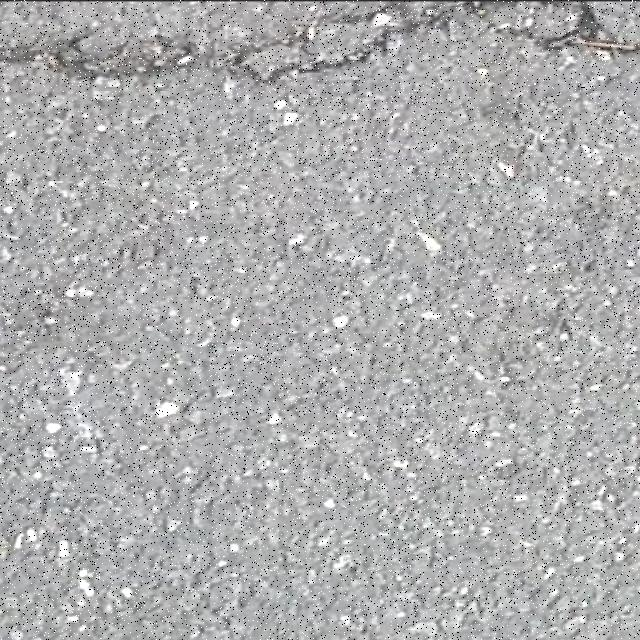Crack: (0, 0, 640, 80)
